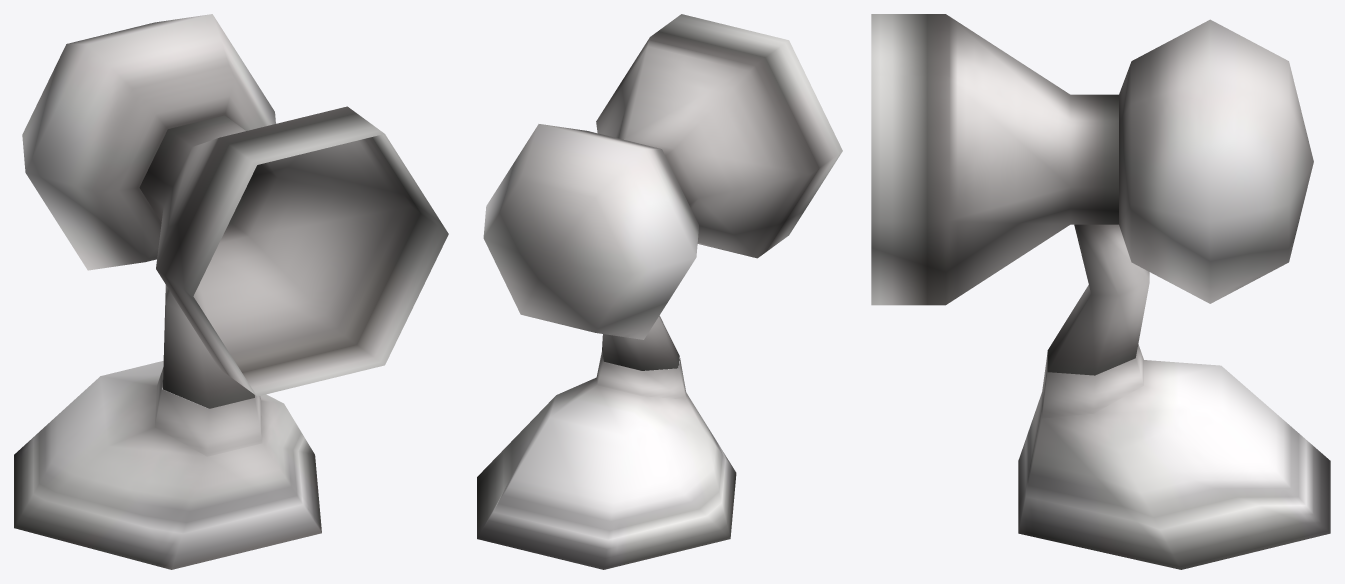
Rendered from acc_9.glb.
The picture shows the model from 3 angles, left to right: view 1: azimuth 30°, elevation 25°; view 2: azimuth 150°, elevation 25°; view 3: azimuth 270°, elevation 25°; orthographic projection. The views are drawn at different scales.
Visible parts, largest first — view 1: vertex, metalpipe; view 2: vertex, metalpipe; view 3: vertex, metalpipe.
Boxes of the visible parts, left/top/right/bottom form: vertex: left=14, top=14, right=321, bottom=569; metalpipe: left=139, top=106, right=448, bottom=408; vertex: left=477, top=124, right=736, bottom=569; metalpipe: left=596, top=14, right=842, bottom=370; vertex: left=1018, top=19, right=1330, bottom=569; metalpipe: left=871, top=14, right=1149, bottom=375.
Bounding box in the file's own units: 0.2661 × 0.3856 × 0.3546.
2 materials, 2 textured.
